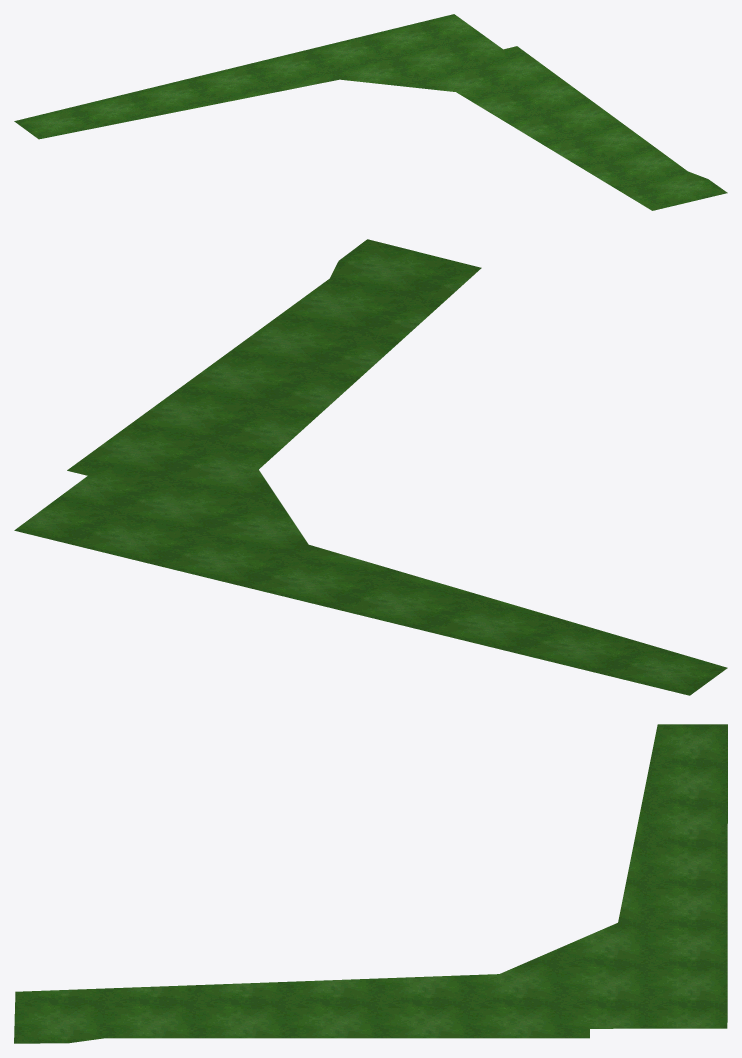
File: grasscorner.glb
The picture shows the model from 3 angles, top to bottom: view 1: azimuth 30°, elevation 25°; view 2: azimuth 150°, elevation 25°; view 3: azimuth 270°, elevation 25°; orthographic projection. The views are drawn at different scales.
Parts seen in each view (by area): view 1: grasscorner; view 2: grasscorner; view 3: grasscorner.
Boxes of the visible parts, x1,y1,x2,y2 form: grasscorner: [14, 14, 727, 210]; grasscorner: [14, 239, 727, 695]; grasscorner: [14, 724, 727, 1043].
Bounding box in the file's own units: 17450 × 0 × 16491.
1 material, 1 textured.
